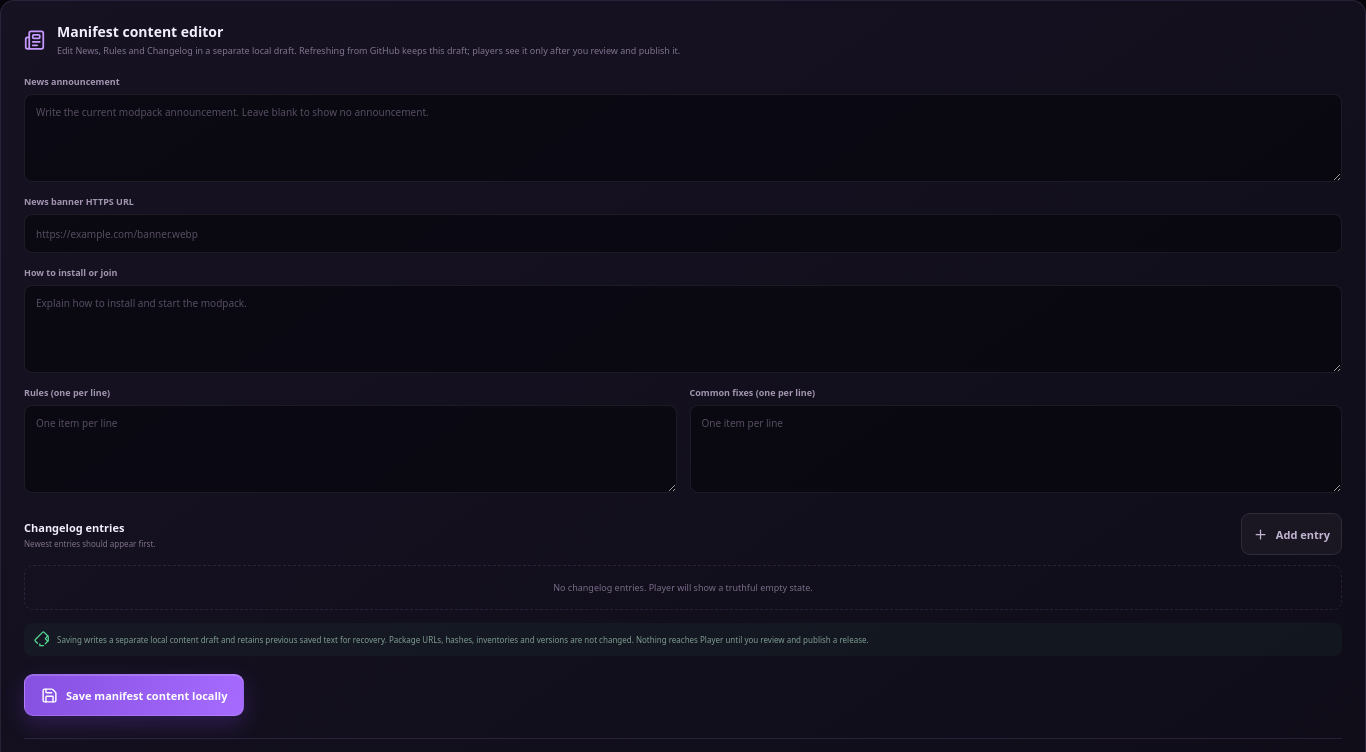
Test: Developer manifest content editor › replaces unsaved editor fields with the native recovered result and invalidates release previews
The image size is (1366, 752).
Replace the text in the text box labelled "News announcement" with "Unsaved edit" at {"x": 683, "y": 138}, box left=24, top=94, right=1342, bottom=182
(page scrolled)
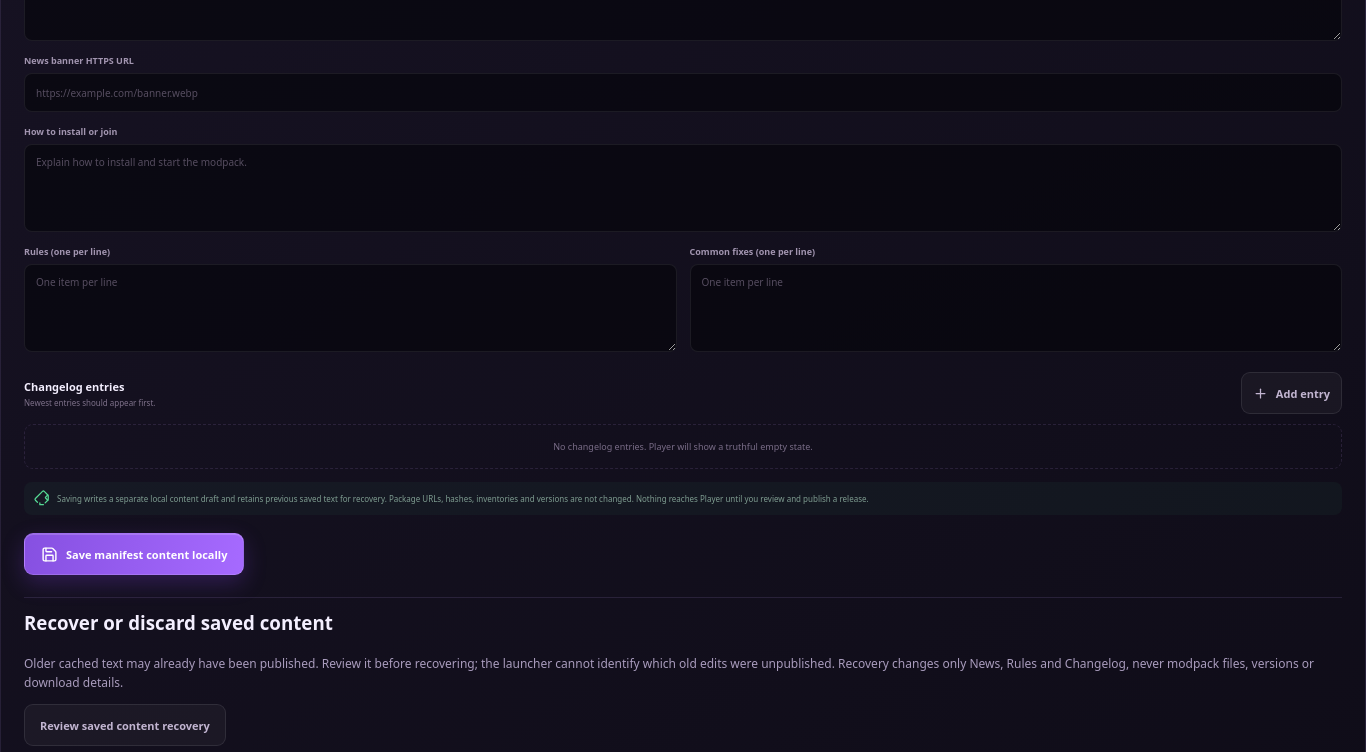
Click the button "Review saved content recovery".
click(125, 725)  # box left=24, top=704, right=226, bottom=746
(page scrolled)
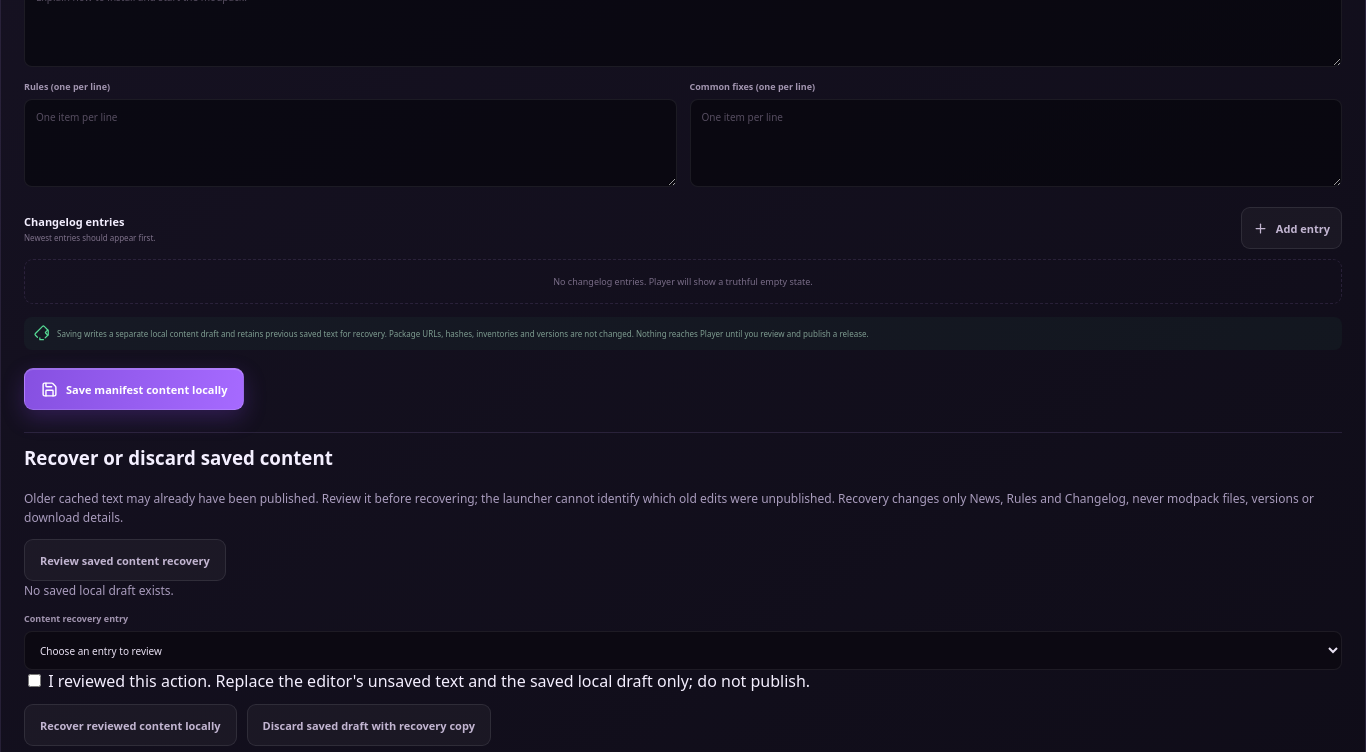
Select "Cached text · cached-reviewed" in the dropdown labelled "Content recovery entry" at {"x": 683, "y": 651}, box left=24, top=631, right=1342, bottom=670
(page scrolled)
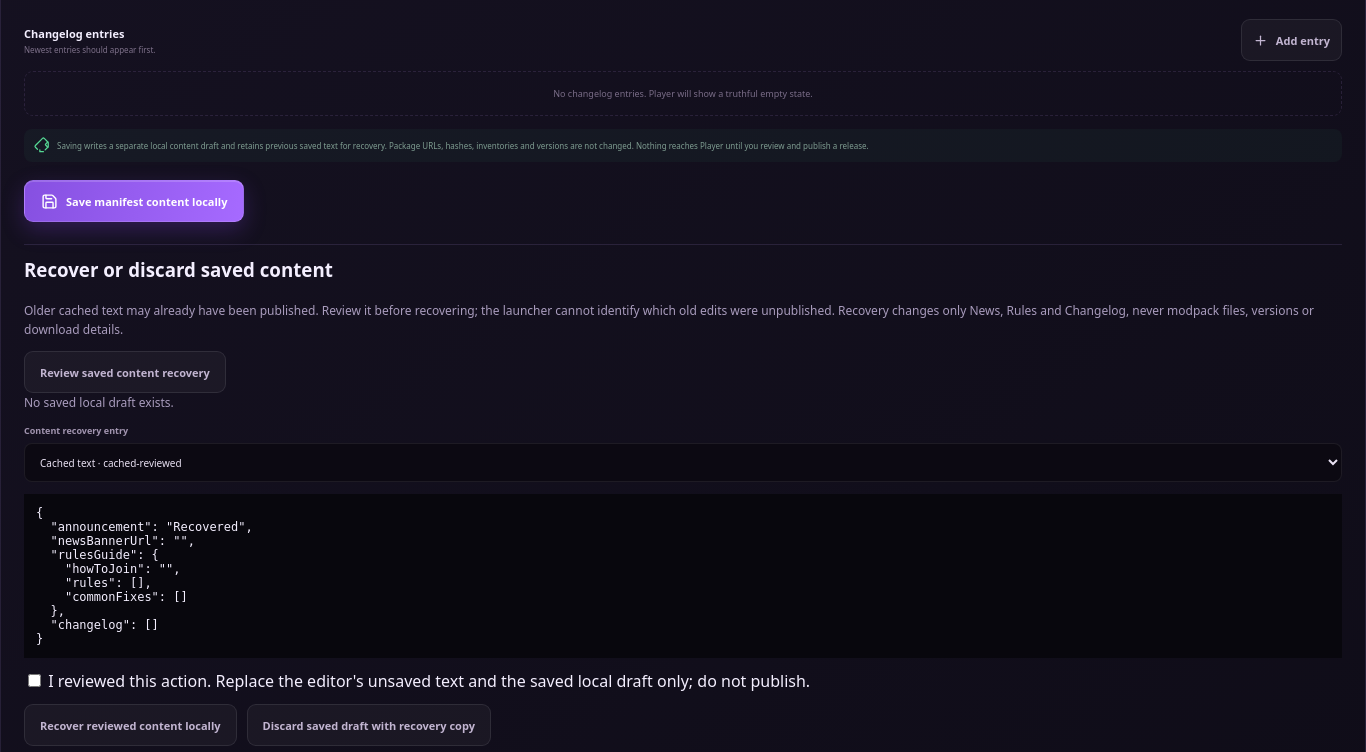
Click the checkbox.
click(34, 681)  # box left=28, top=674, right=41, bottom=687
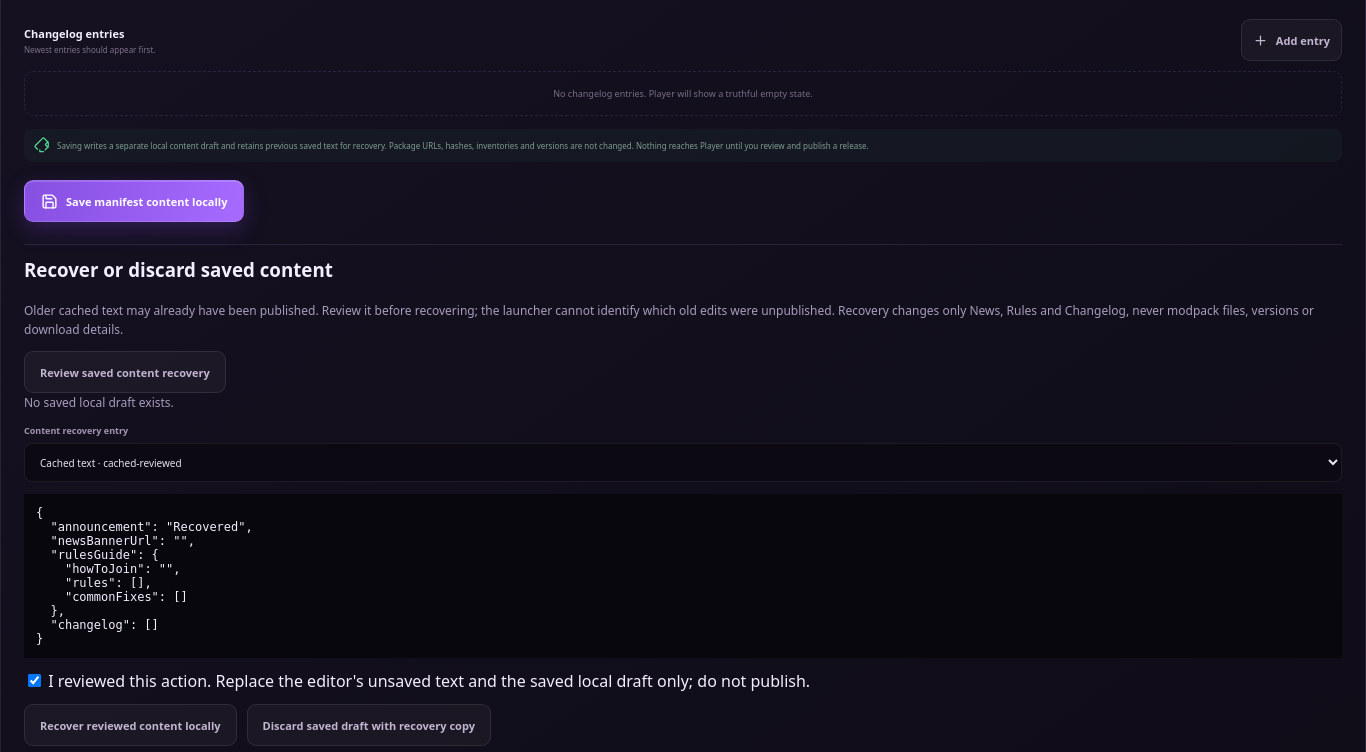
Click the button "Recover reviewed content locally".
click(130, 725)  # box left=24, top=704, right=237, bottom=746
(page scrolled)
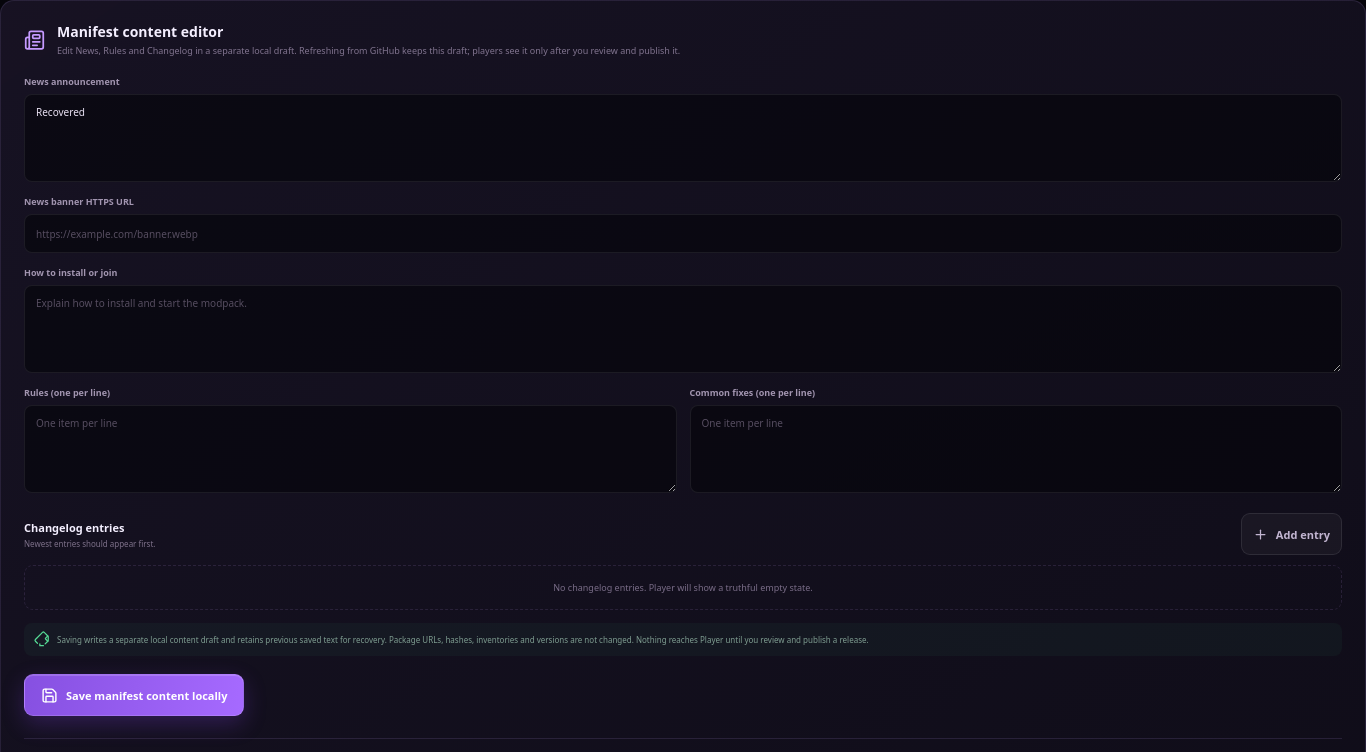
Now the text box labelled "News announcement" holds "Recovered", box left=24, top=94, right=1342, bottom=182
